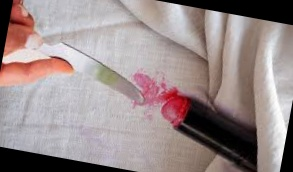lipstick: (124, 62, 176, 120)
